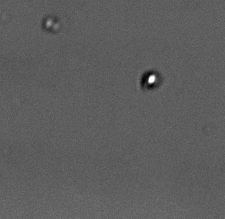Living Cell: (140, 68, 161, 91)
